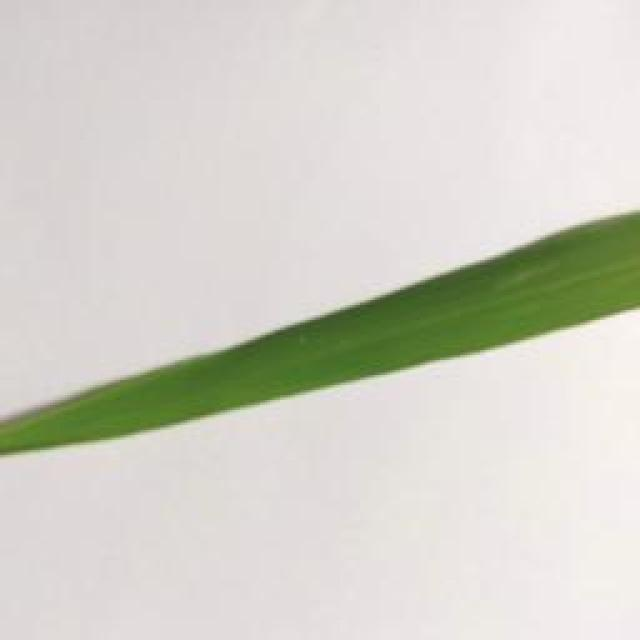Healthy-Plant: (387, 237, 533, 386), (515, 202, 640, 352), (275, 282, 406, 409), (167, 323, 292, 442), (77, 358, 181, 461), (0, 391, 88, 476)
